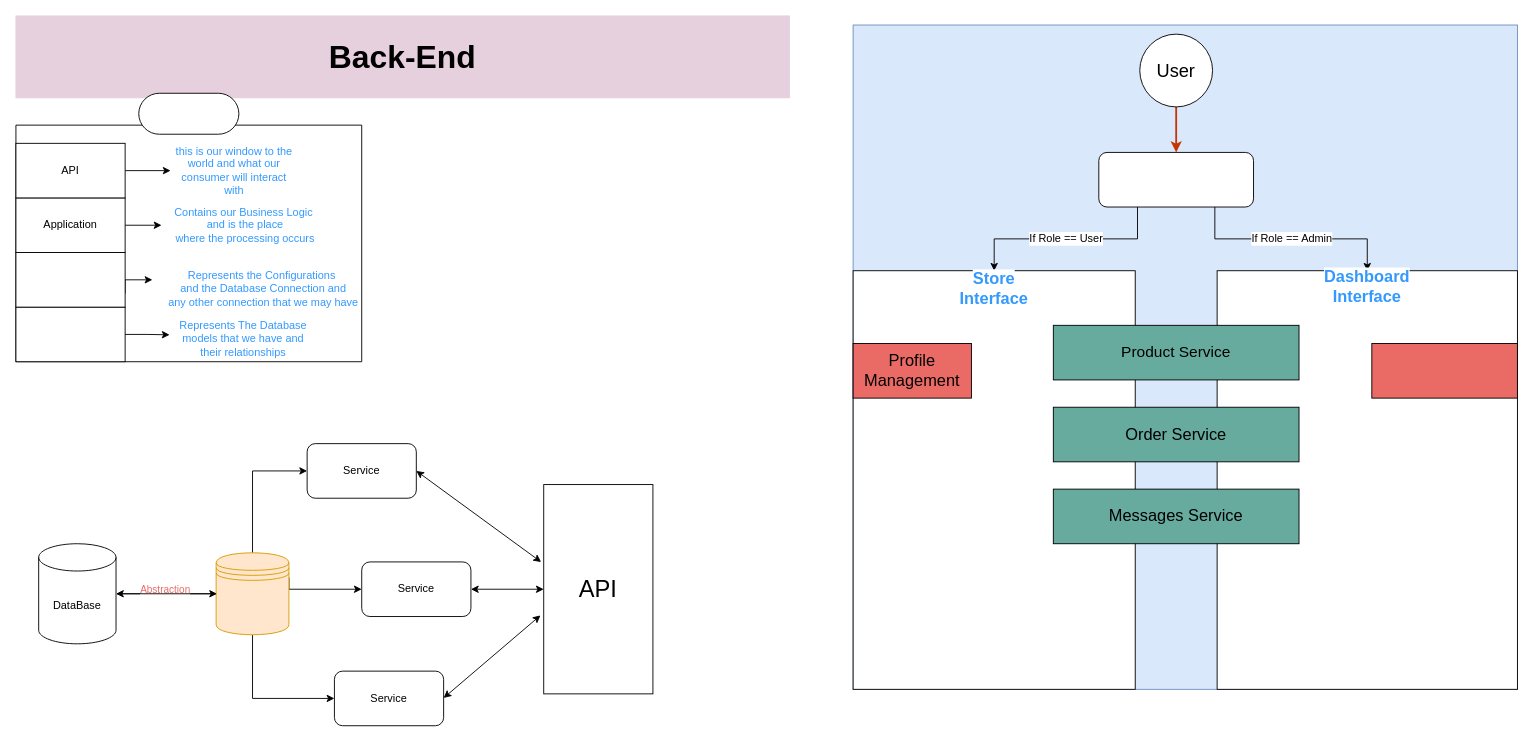
Image size: 1533x742. Some labels were removed from this diagram. Each missing label, with the centre of its shape:
"Auth Service" belongs at [1176,179].
"Domain" belongs at [70,334].
"Infrastructure" belongs at [70,279].
"Our Layers" belongs at [188,113].
"Repository & UnitOfWork" belongs at [252,593].
"User Management" belongs at [1444,370].
